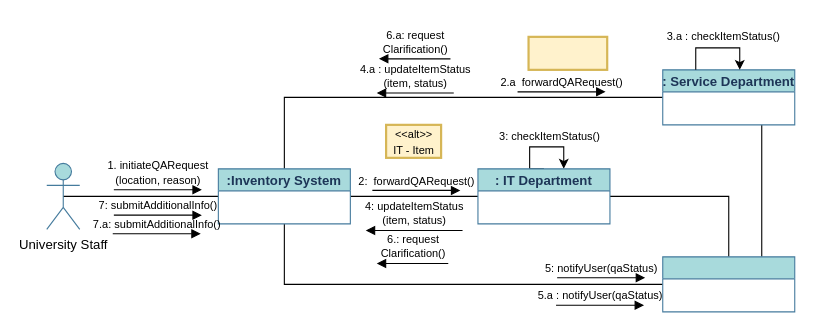
This 814x333 diagram has some shape labels left out. Here are the shapes that lost their labels. From the top down, the centre of each, then its label:
the point at 567,52: <<alt>> Non - IT - Item
the point at 728,284: :NotificationSystem
